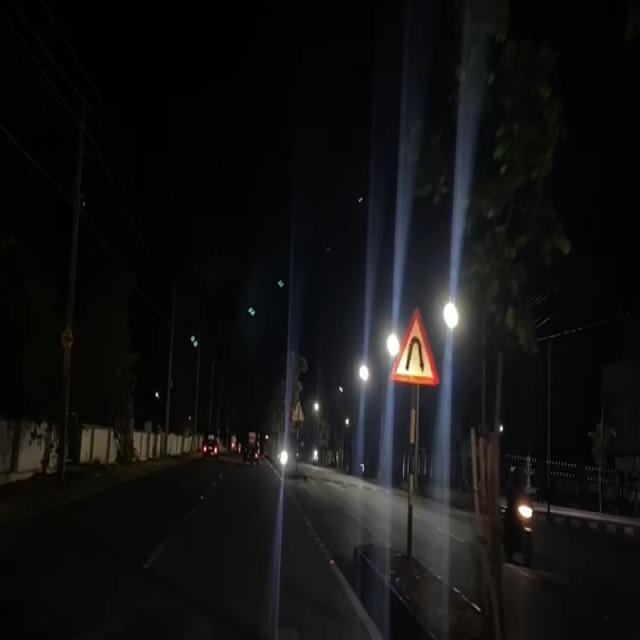bien_cam: (388, 301, 440, 392)
